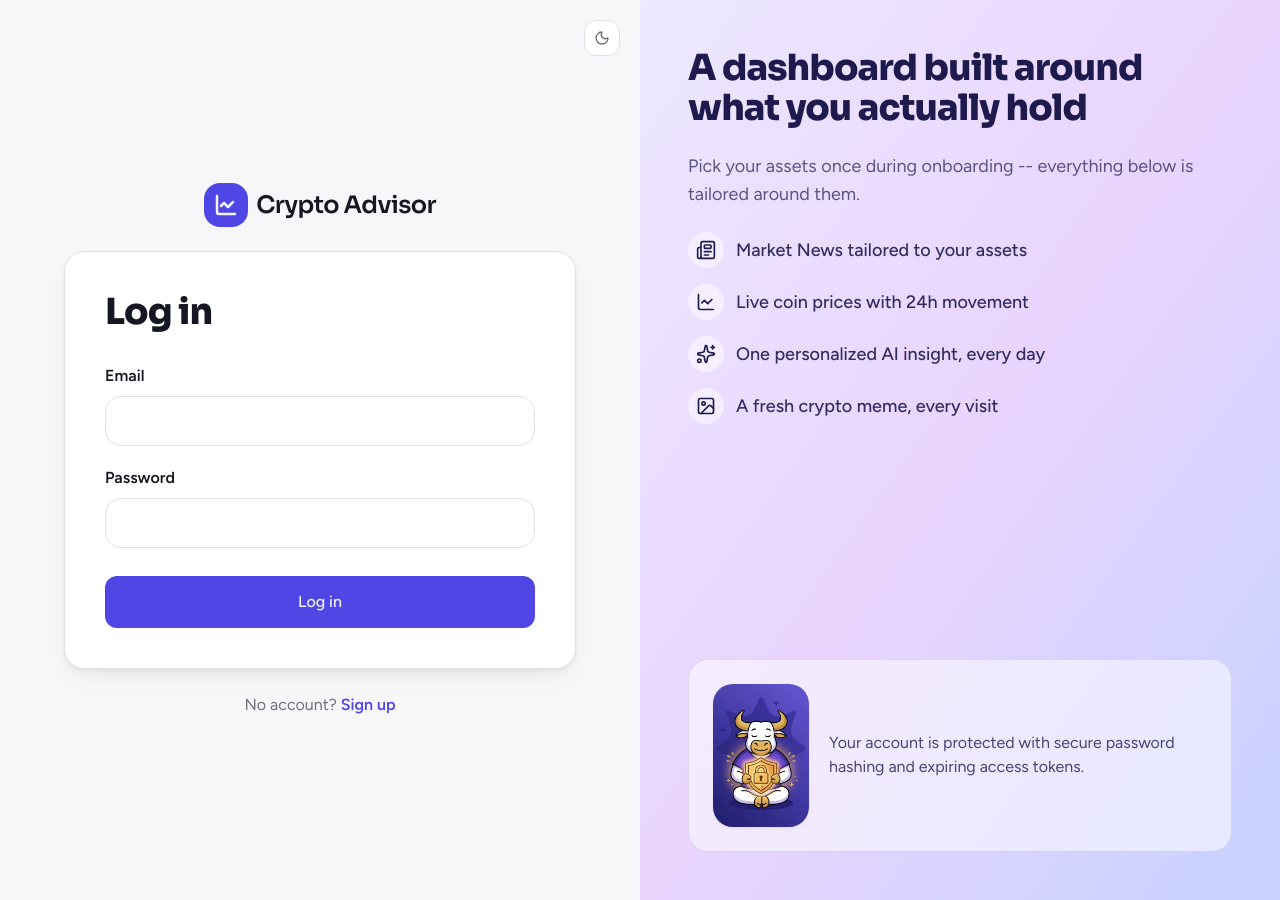
it: LoginPage › shows a safe error message when login fails
The image size is (1280, 900).
Type "roy@example.com" into the field labelled "Email" at (320, 421), box [105,396,535,446]
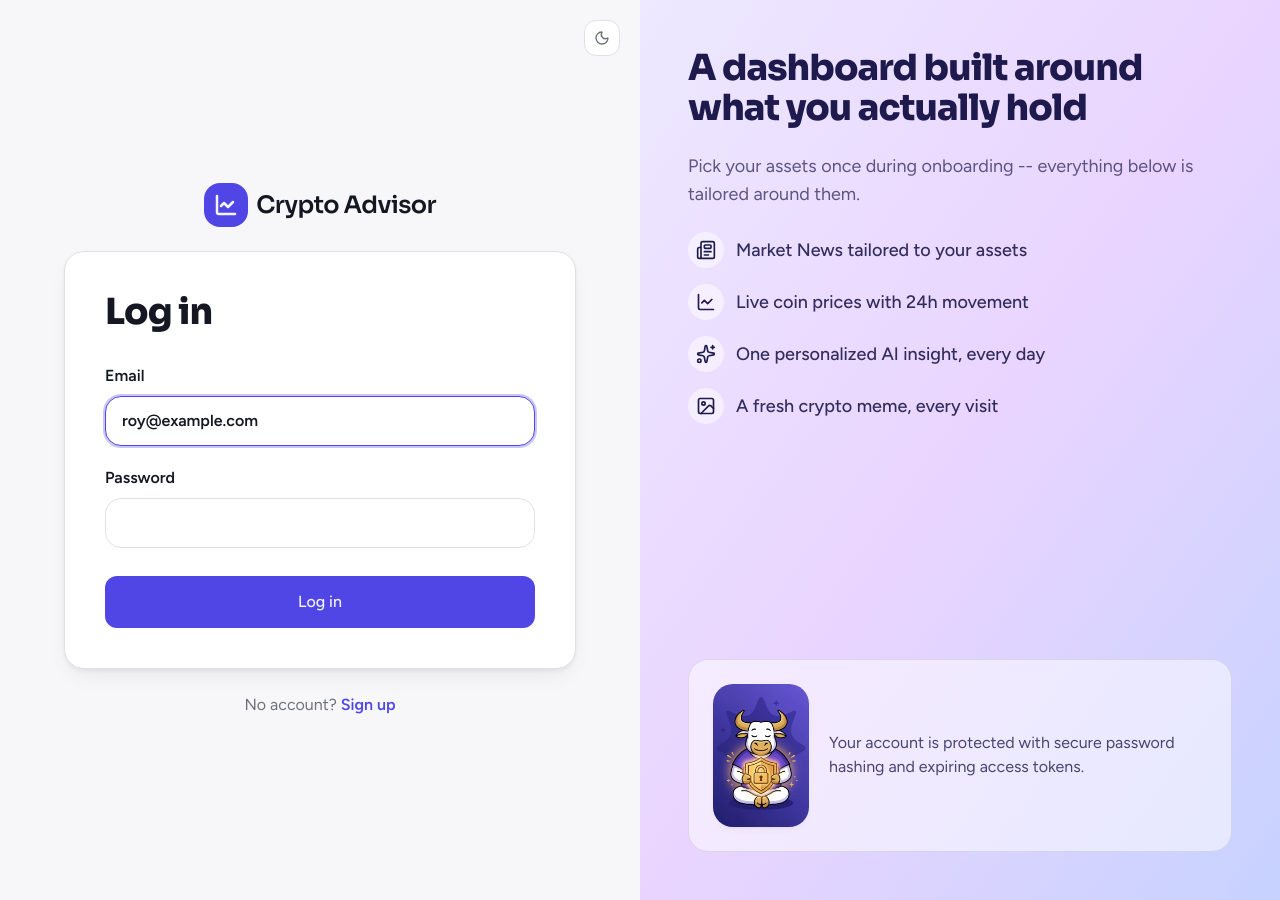
Type "wrong-password" into the password field labelled "Password" at (320, 523), box [105,498,535,548]
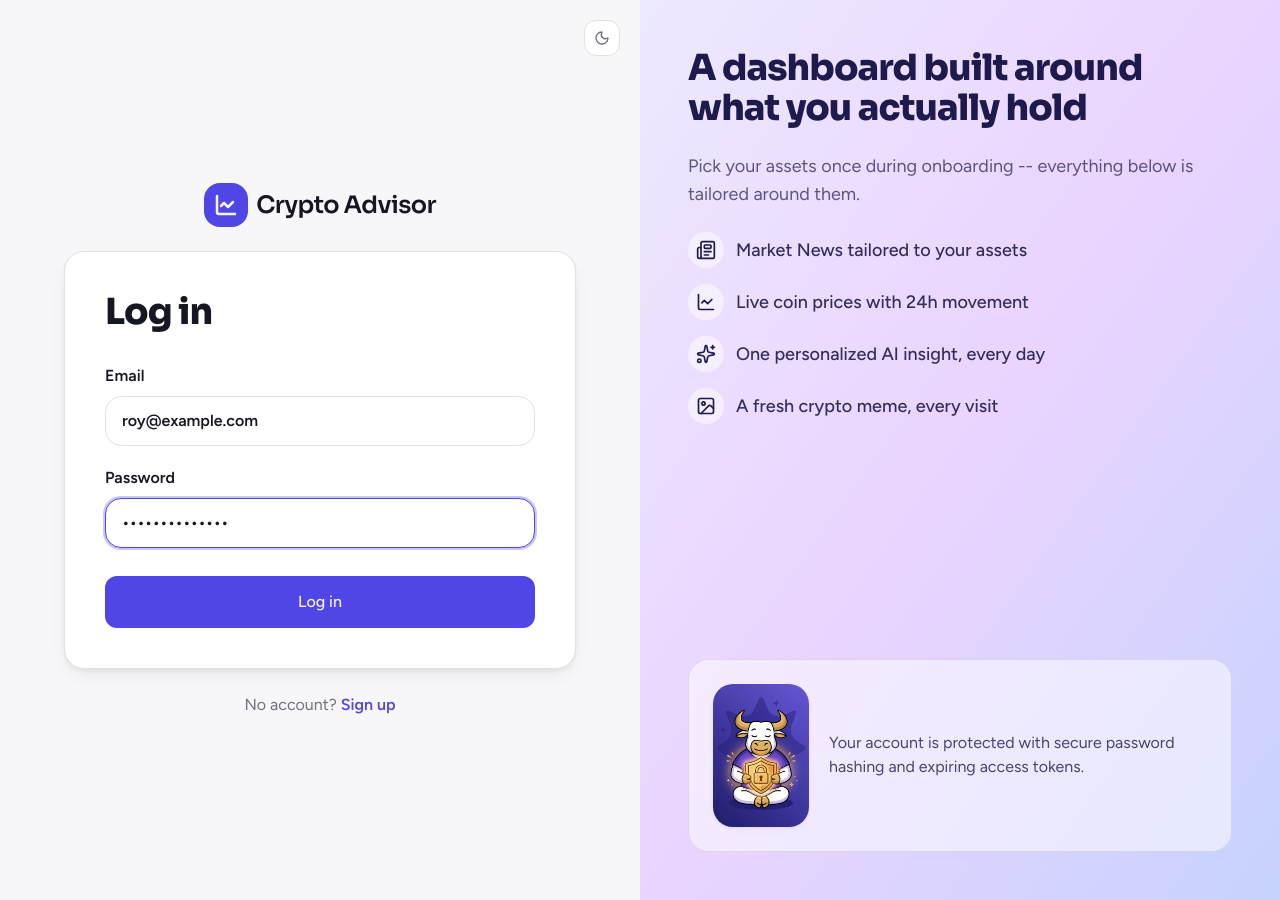
Click the button "Log in" at (320, 602), box [105,576,535,628]
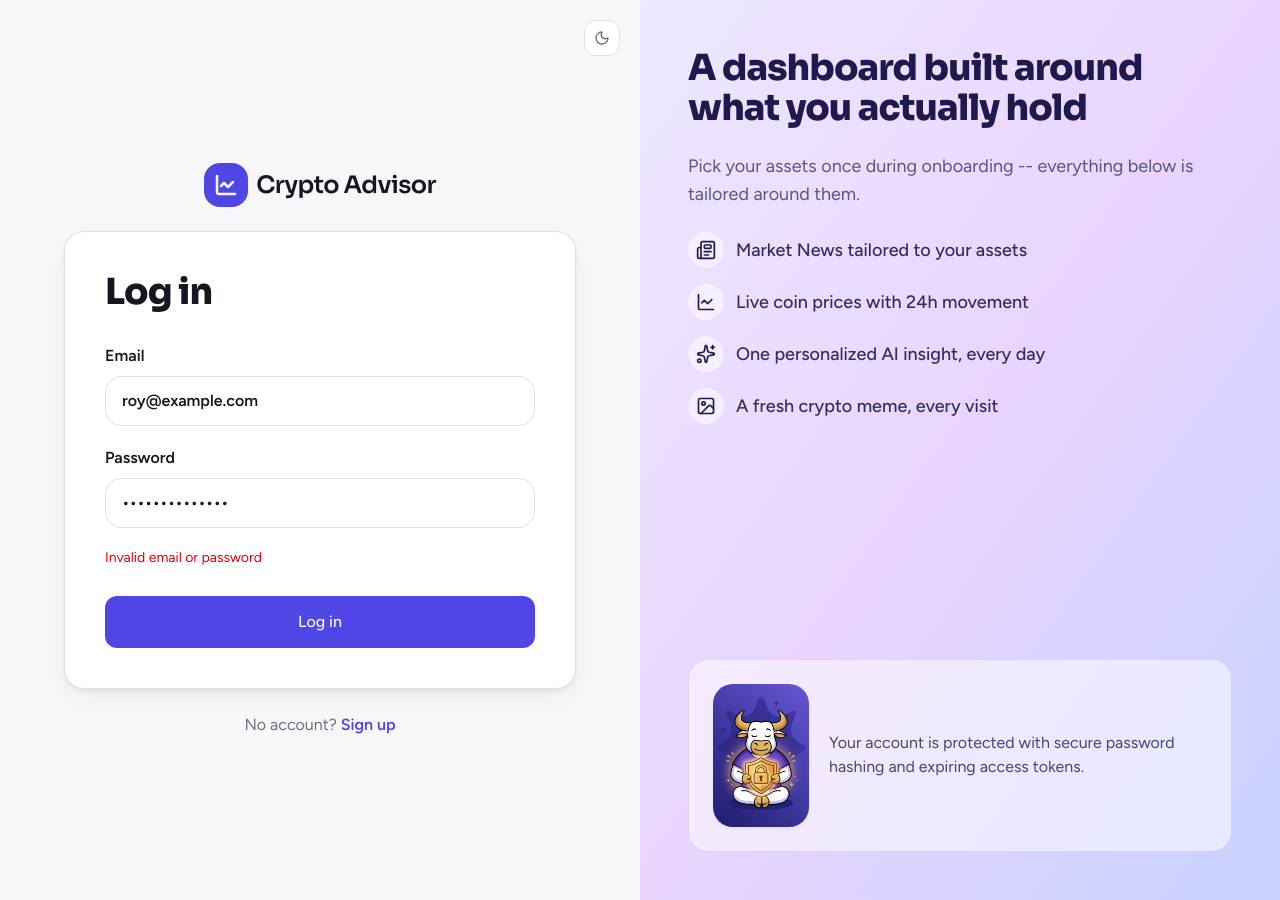
Result: the message reads "Invalid email or password" at [105,549,262,566]
